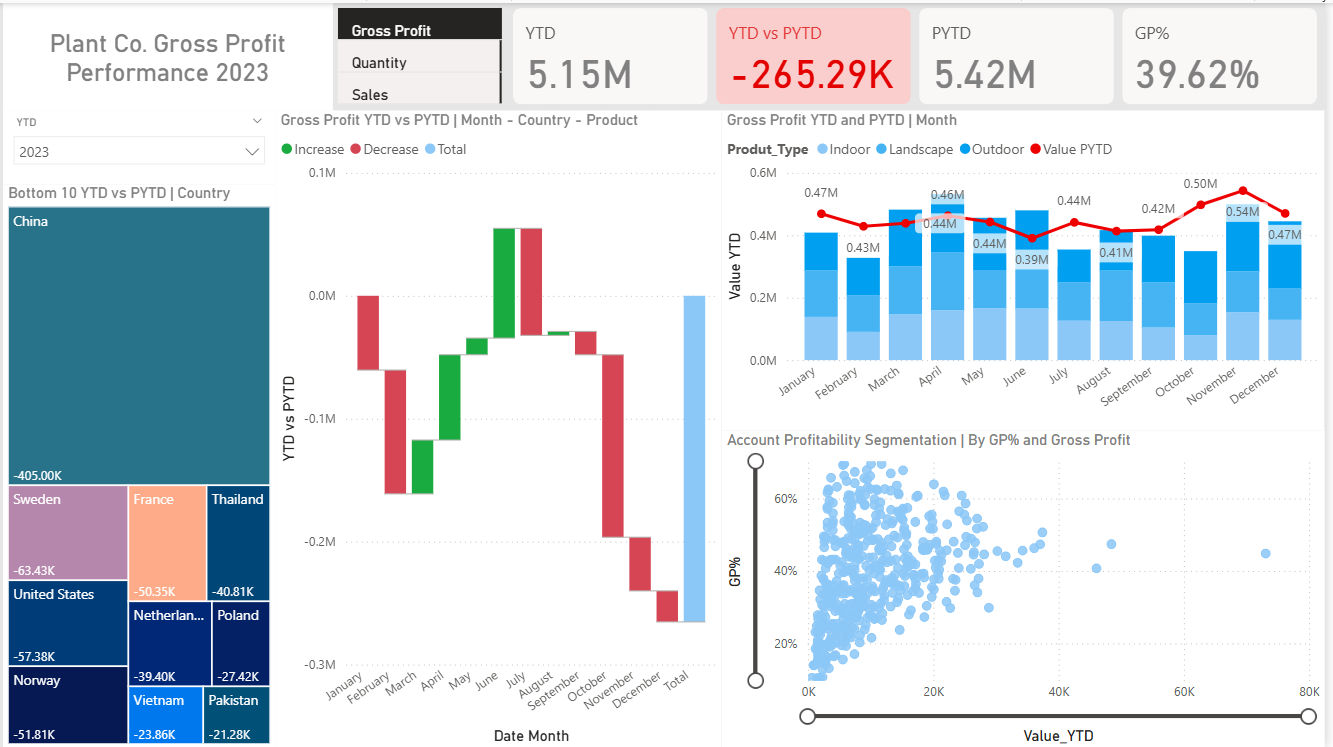

The page's visual inventory and layout, read from the dashboard file:
{"tool":"powerbi","page":{"name":"Page 1","canvas":[1280,720],"ordinal":0},"visuals":[{"type":"cardVisual","fields":{"Data":["_Measures.S_YTD","_Measures.YTD vs PYTD","_Measures.S_PYTD","_Measures.GP%"]},"box":[492.2,0,787.8,103.8],"z":0},{"type":"advancedSlicerVisual","fields":{"Values":["Slc_values.Values"]},"box":[323.3,0,168.9,103.8],"z":1000},{"type":"slicer","fields":{"Values":["Dim_Date.Date.Variation.Date Hierarchy.Year"]},"box":[4.8,103.8,263,71.2],"z":2000},{"type":"treemap","title":"Bottom 10 YTD vs PYTD | Country","fields":{"Group":["Dim_Accounts.country"],"Values":["_Measures.YTD vs PYTD"]},"box":[4.8,174.9,263,545.3],"z":3000},{"type":"waterfallChart","fields":{"Y":["_Measures.YTD vs PYTD"],"Category":["Dim_Date.Date.Variation.Date Hierarchy.Month","Dim_Accounts.country","Dim_Product.Produt_Type","Dim_Product.Product_Name"]},"box":[267.8,103.8,430.7,616.5],"z":4000},{"type":"lineStackedColumnComboChart","fields":{"Y":["_Measures.S_YTD"],"Y2":["_Measures.S_PYTD"],"Category":["Dim_Date.Date.Variation.Date Hierarchy.Quarter","Dim_Date.Date.Variation.Date Hierarchy.Month"],"Series":["Dim_Product.Produt_Type"]},"box":[698.5,103.8,581.5,308.8],"z":5000},{"type":"scatterChart","fields":{"X":["_Measures.S_YTD"],"Y":["_Measures.GP%"],"Category":["Dim_Accounts.Account"]},"box":[698.5,412.6,581.5,307.6],"z":6000},{"type":"card","fields":{"Values":["_Measures._report_title"]},"box":[4.8,0,318.5,103.8],"z":7000}]}

Visuals, with their boxes in screenshot pixels (x1, y1, x2, y2), scaled from the page's 1280x720 canvas onto the 1333x747 screenshot:
cardVisual - _Measures.S_YTD x _Measures.YTD vs PYTD: Rect(513, 0, 1332, 108)
advancedSlicerVisual - Slc_values.Values: Rect(337, 0, 513, 108)
slicer - Dim_Date.Date.Variation.Date Hierarchy.Year: Rect(5, 108, 279, 182)
"Bottom 10 YTD vs PYTD | Country" treemap: Rect(5, 181, 279, 746)
waterfallChart - _Measures.YTD vs PYTD x Dim_Date.Date.Variation.Date Hierarchy.Month: Rect(279, 108, 727, 746)
lineStackedColumnComboChart - _Measures.S_YTD x _Measures.S_PYTD: Rect(727, 108, 1332, 428)
scatterChart - _Measures.S_YTD x _Measures.GP%: Rect(727, 428, 1332, 746)
card - _Measures._report_title: Rect(5, 0, 337, 108)
